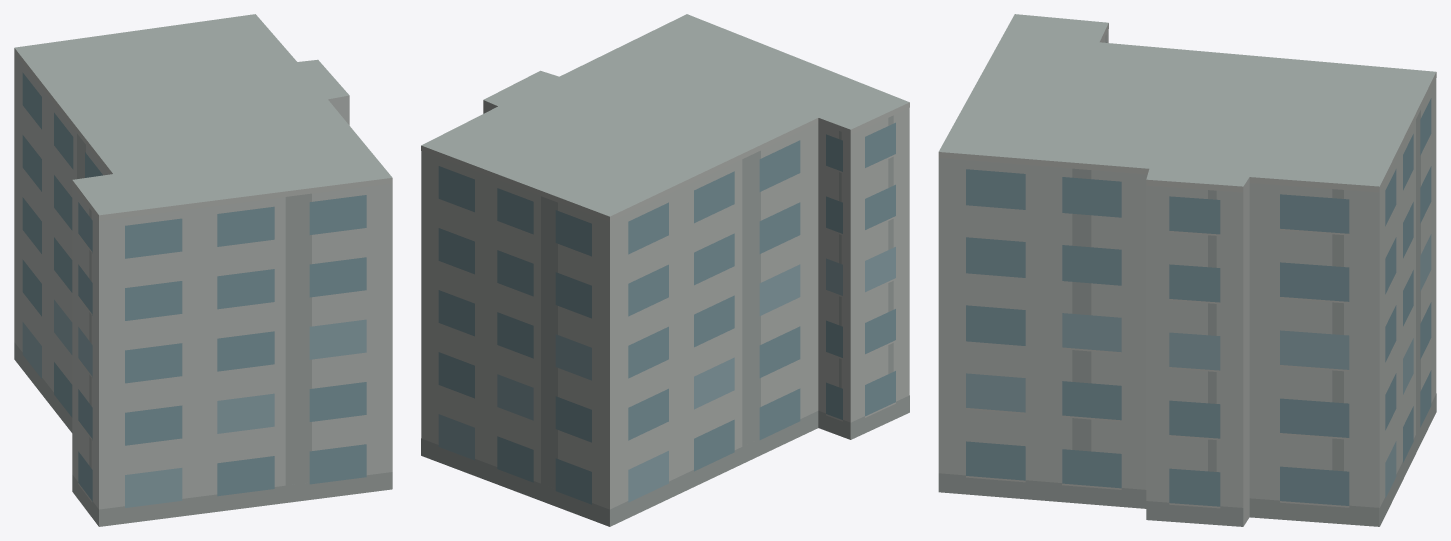
The model's file is survey-upis-32931547.glb.
The picture shows the model from 3 angles, left to right: view 1: azimuth 30°, elevation 25°; view 2: azimuth 150°, elevation 25°; view 3: azimuth 270°, elevation 25°; orthographic projection. The views are drawn at different scales.
Parts seen in each view (by area): view 1: survey-upis-32931547.tmp; view 2: survey-upis-32931547.tmp; view 3: survey-upis-32931547.tmp.
Part boxes in pixels (<box>): survey-upis-32931547.tmp: <box>14,14,392,526</box>; survey-upis-32931547.tmp: <box>421,14,909,526</box>; survey-upis-32931547.tmp: <box>938,14,1436,526</box>.
Size of the model in its own units: 15.02 by 13.8 by 18.31.
